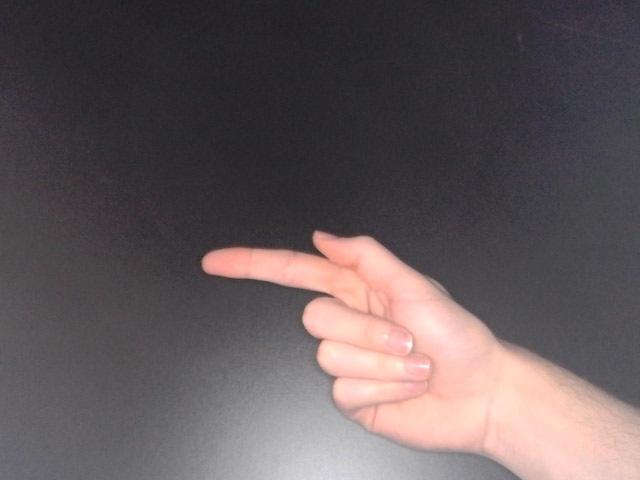g: (197, 227, 523, 471)
